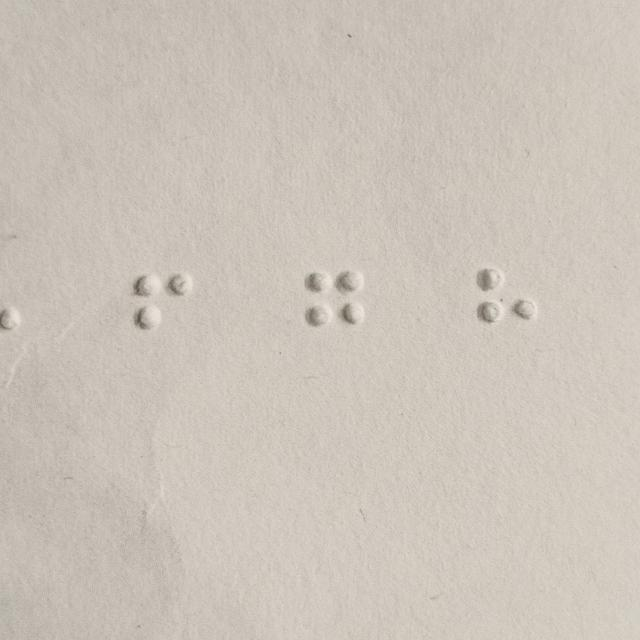f: (134, 269, 196, 368)
g: (302, 267, 368, 366)
h: (473, 265, 540, 364)
